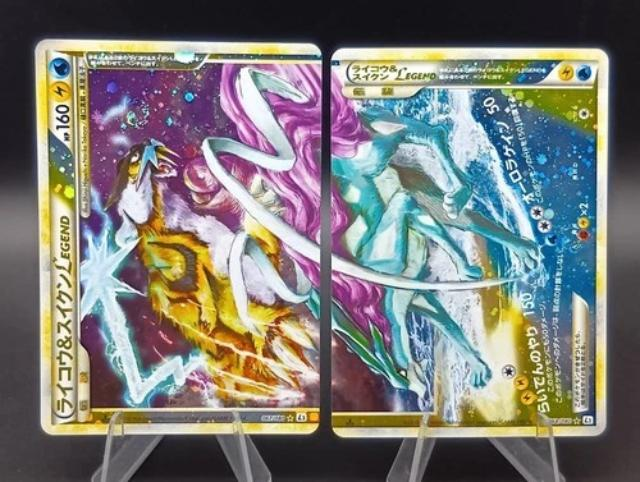Card: (31, 36, 326, 439), (328, 44, 612, 444)
Name: (51, 204, 77, 418), (348, 57, 439, 86)
